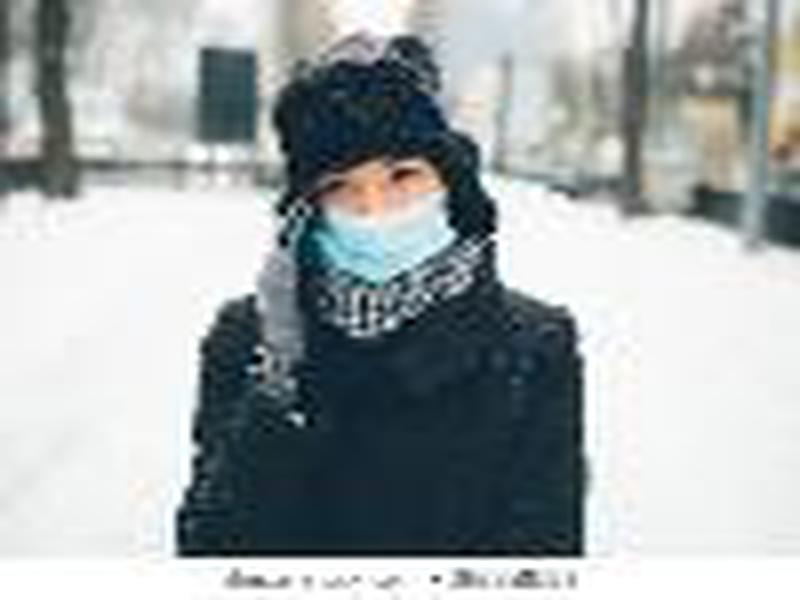with_mask: (307, 155, 459, 287)
